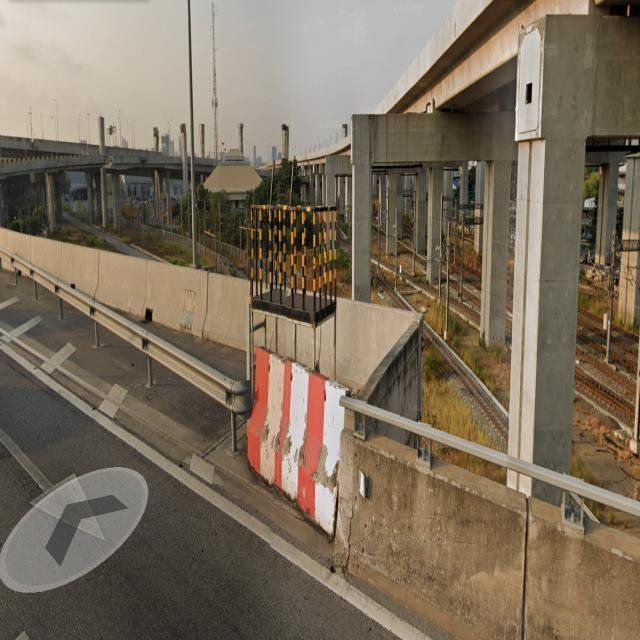fallen_object: (236, 330, 354, 546)
